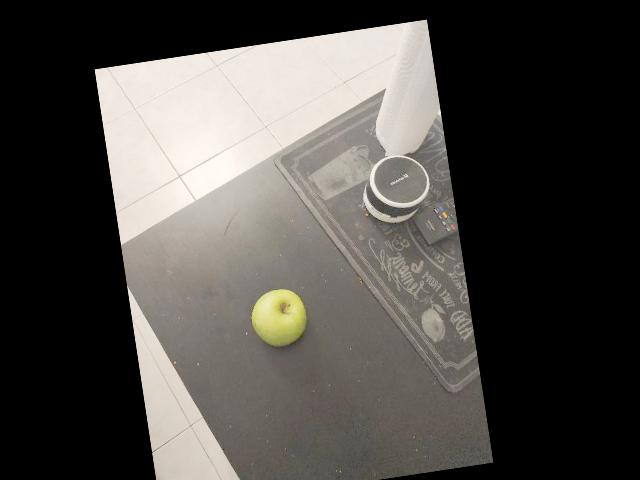apple: (137, 167, 219, 245)
